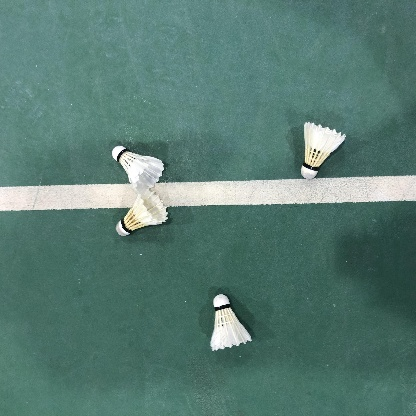ball_single: (301, 122, 346, 179), (116, 189, 169, 236), (210, 294, 253, 351), (112, 146, 164, 192)
